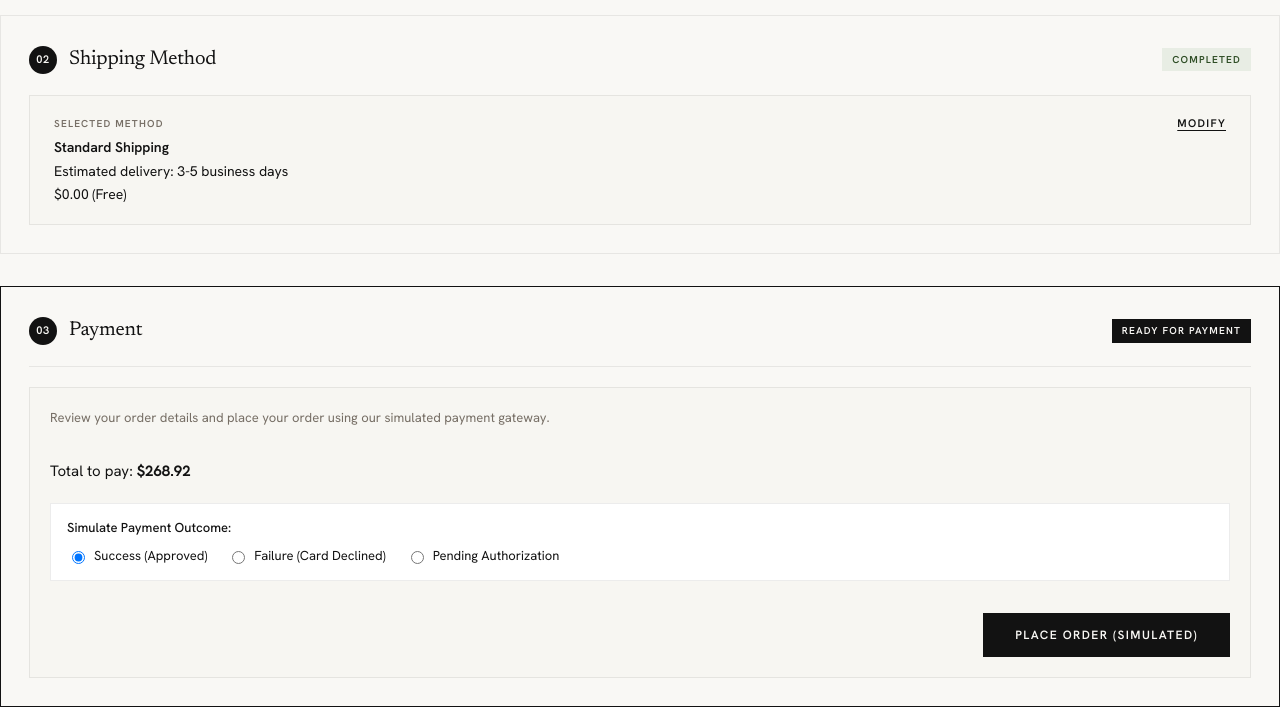
ContactAndAddressForm › displays error message when payment simulation fails
(page scrolled)
Step 1. Click the button with test id "place-order-button" → click(1107, 635), box top-left (983, 613), bottom-right (1230, 657)
(page scrolled)
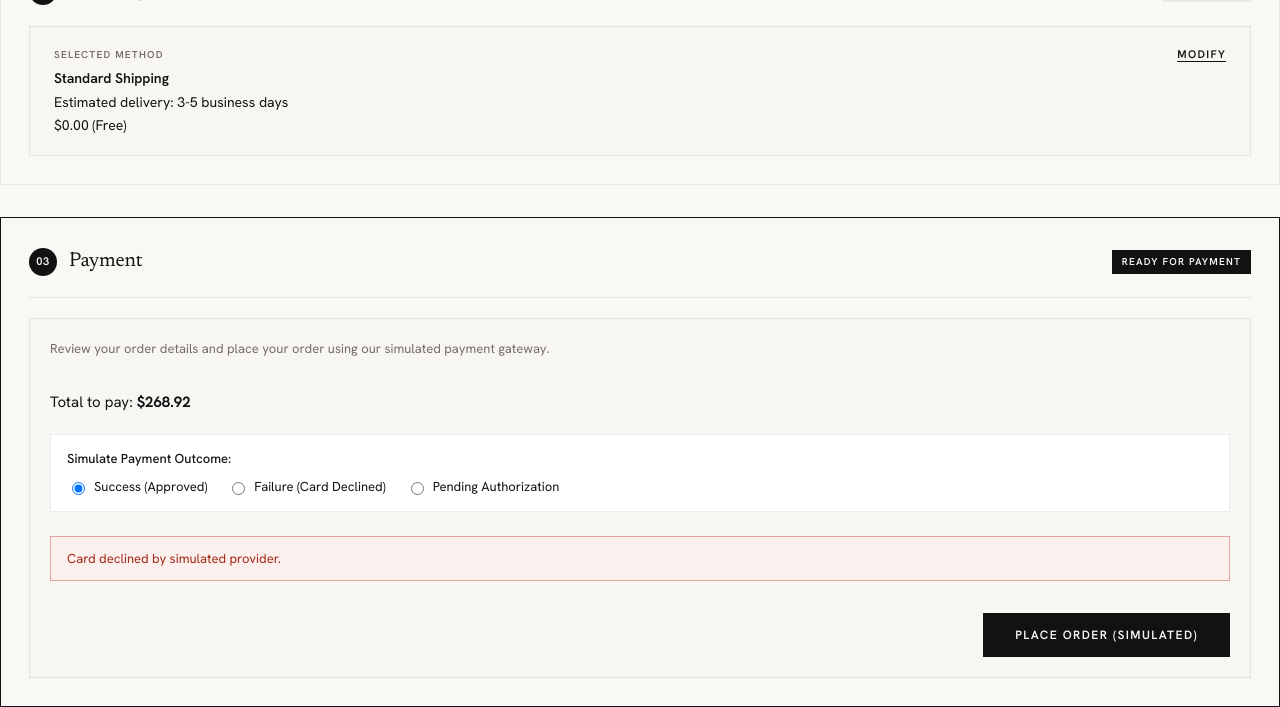
Expected: the message with test id "payment-error" reads "Card declined by simulated provider.", top-left (67, 550), bottom-right (281, 567)
